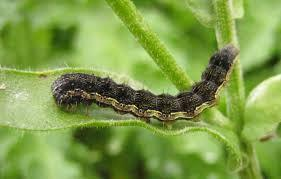insect: (49, 41, 240, 126)
